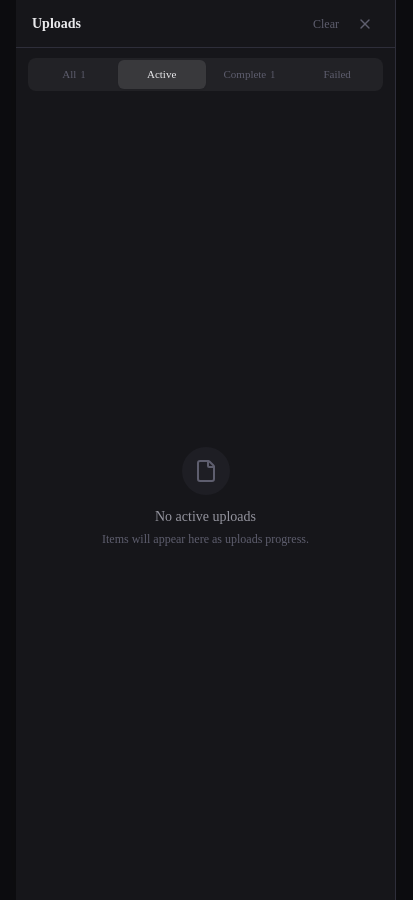
Test: rows the panel does not offer a rename on › a history row, which may belong to a project the user no longer edits
Click the button "Complete1": (249, 74) x1=206 y1=60 x2=293 y2=88
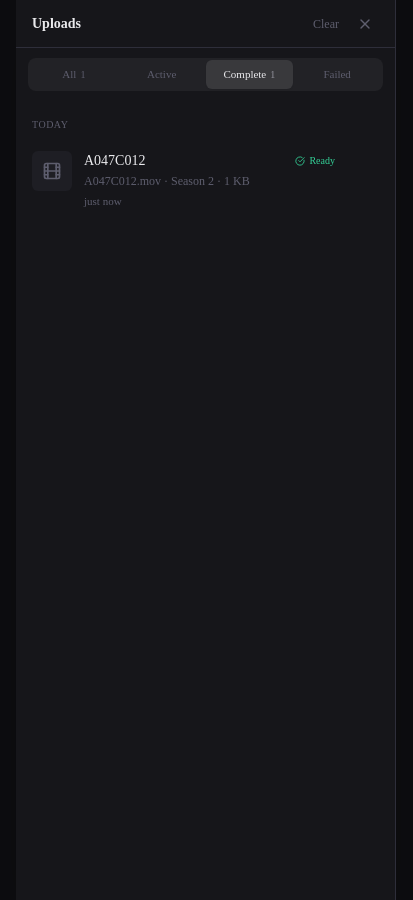
Now the text "A047C012" is shown, box x1=84 y1=152 x2=146 y2=168
